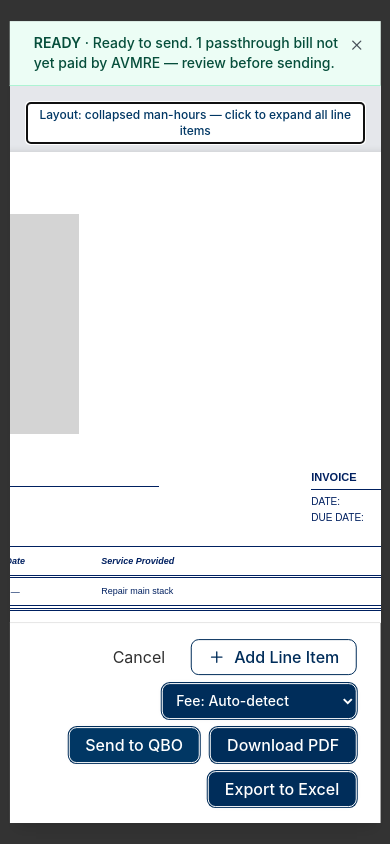
Test case: InvoicePreviewModal — pre-send review › renders both sections in a single dialog when both apply
Click the button "Send to QBO". click: [134, 745]
box: [68,727,200,763]
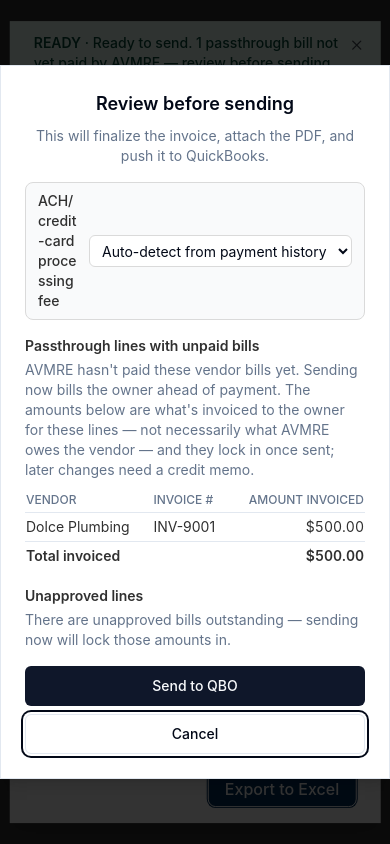
Expected: the text "Passthrough lines with unpaid bills" is shown, [25,337,259,354]
Expected: the text "Unapproved lines" is shown, [25,587,143,604]
Expected: the number of headings "Review before sending" is 1, [96,93,294,114]
